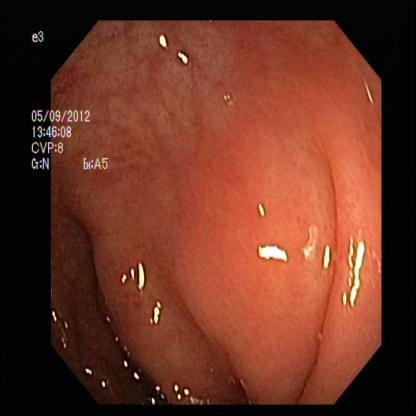Labels: (29, 25, 113, 171)
Polyps: (188, 194, 324, 400)
